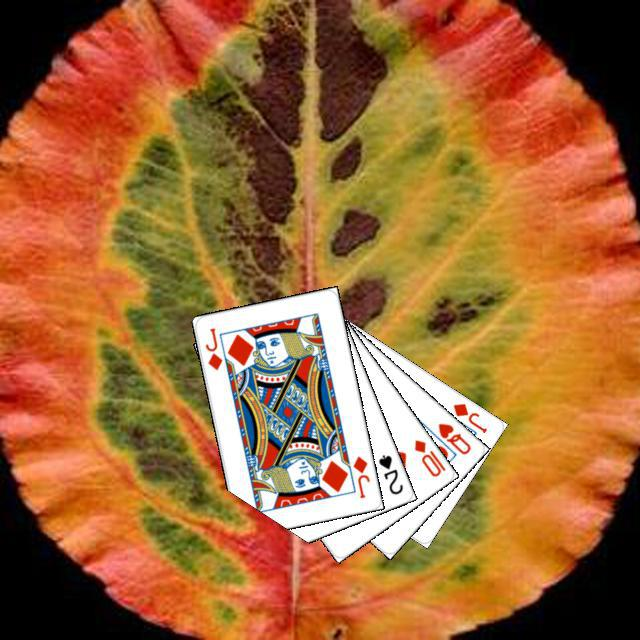10d: (409, 434, 447, 479)
2s: (373, 450, 405, 496)
Jd: (448, 398, 489, 435), (200, 323, 224, 372), (348, 451, 371, 500)
Qh: (433, 418, 473, 456)
